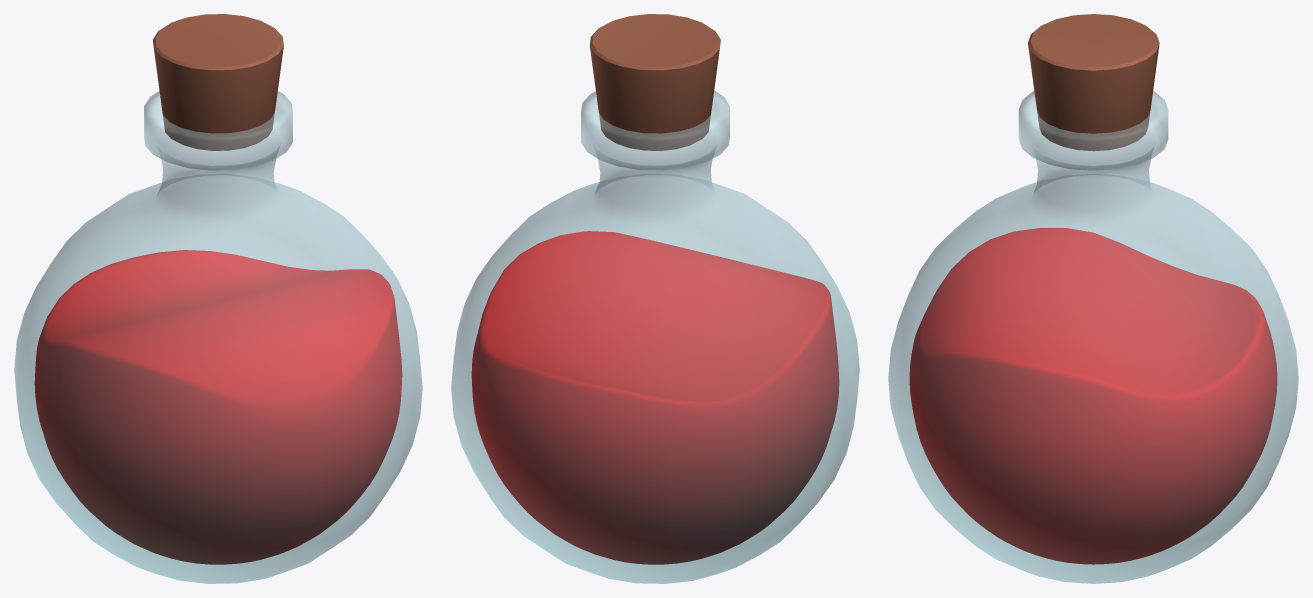
Rendered from PocionPezGlobo.fbx.
3 renders of one model, left to right at view 1: azimuth 30°, elevation 25°; view 2: azimuth 150°, elevation 25°; view 3: azimuth 270°, elevation 25°, orthographic.
Parts seen in each view (by area): view 1: Botella, Liquido, Corcho; view 2: Botella, Liquido, Corcho; view 3: Botella, Liquido, Corcho.
Boxes of the visible parts, x1=… form: Botella: x1=14, y1=91, x2=422, y2=583; Liquido: x1=34, y1=250, x2=402, y2=564; Corcho: x1=153, y1=14, x2=283, y2=150; Botella: x1=451, y1=91, x2=859, y2=583; Liquido: x1=471, y1=231, x2=839, y2=564; Corcho: x1=589, y1=14, x2=720, y2=150; Botella: x1=888, y1=91, x2=1298, y2=583; Liquido: x1=909, y1=228, x2=1277, y2=564; Corcho: x1=1028, y1=14, x2=1159, y2=151.
Size of the model in its own units: 0.803 by 1.13 by 0.803.
